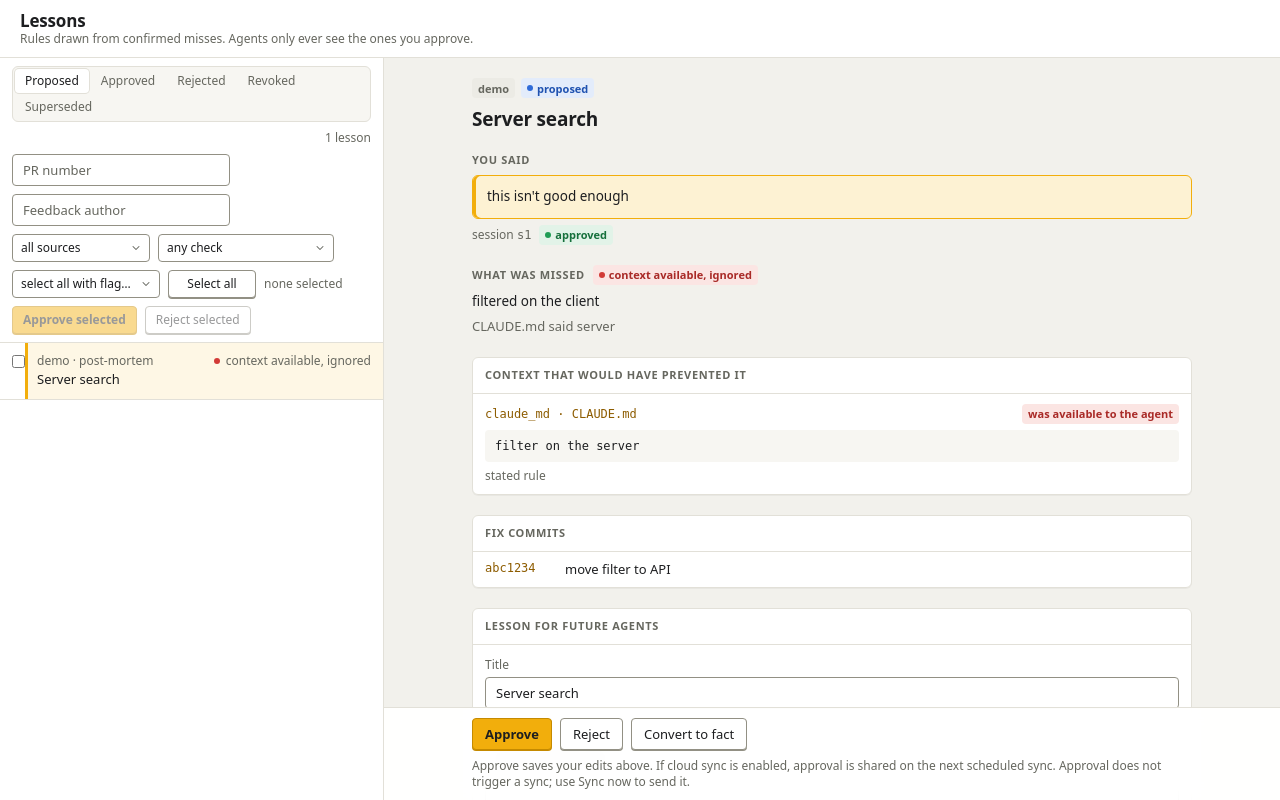
Scenario: Cancel in the convert dialog changes nothing, and a refusal is shown in the dialog
Expected: the text "filtered on the client" is shown, [472,292,600,310]
What coordinates should you click on to do the following:
click the button "Convert to fact"
I would click on:
 (689, 734)
Its box is [631,718,747,750].
(page scrolled)
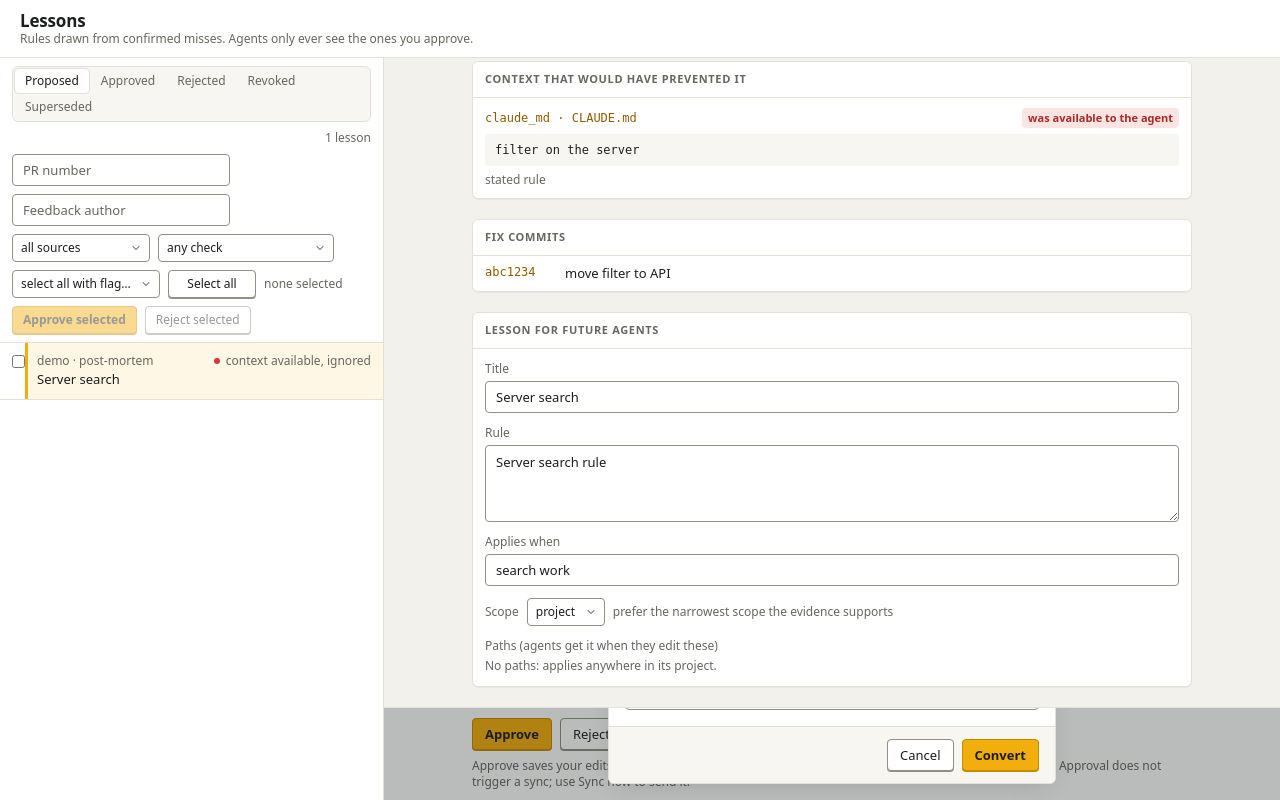
What coordinates should you click on to do the following:
click the button "Cancel"
I would click on:
 (920, 755)
Its box is [887,739,954,771].
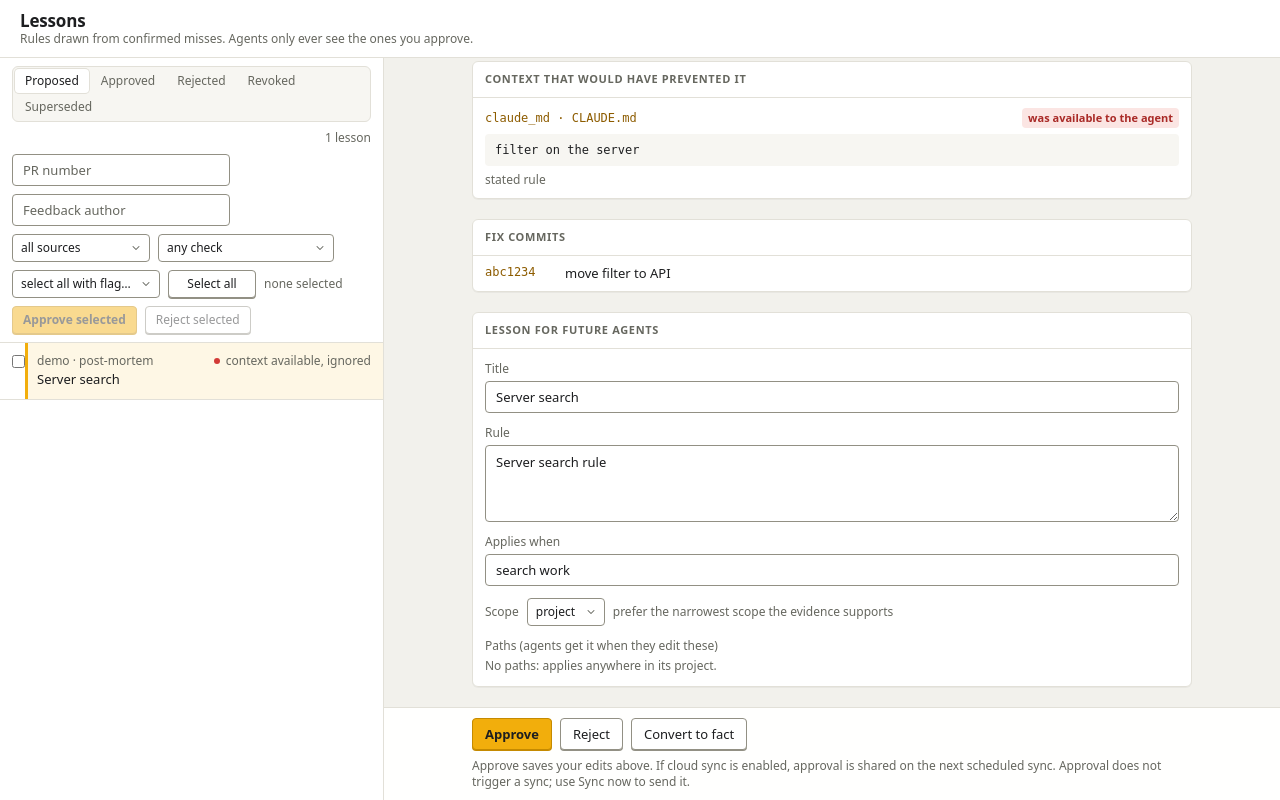
Now the dialog is gone
What coordinates should you click on to do the following:
click the button "Convert to fact"
I would click on:
 (689, 734)
Its box is [631,718,747,750].
(page scrolled)
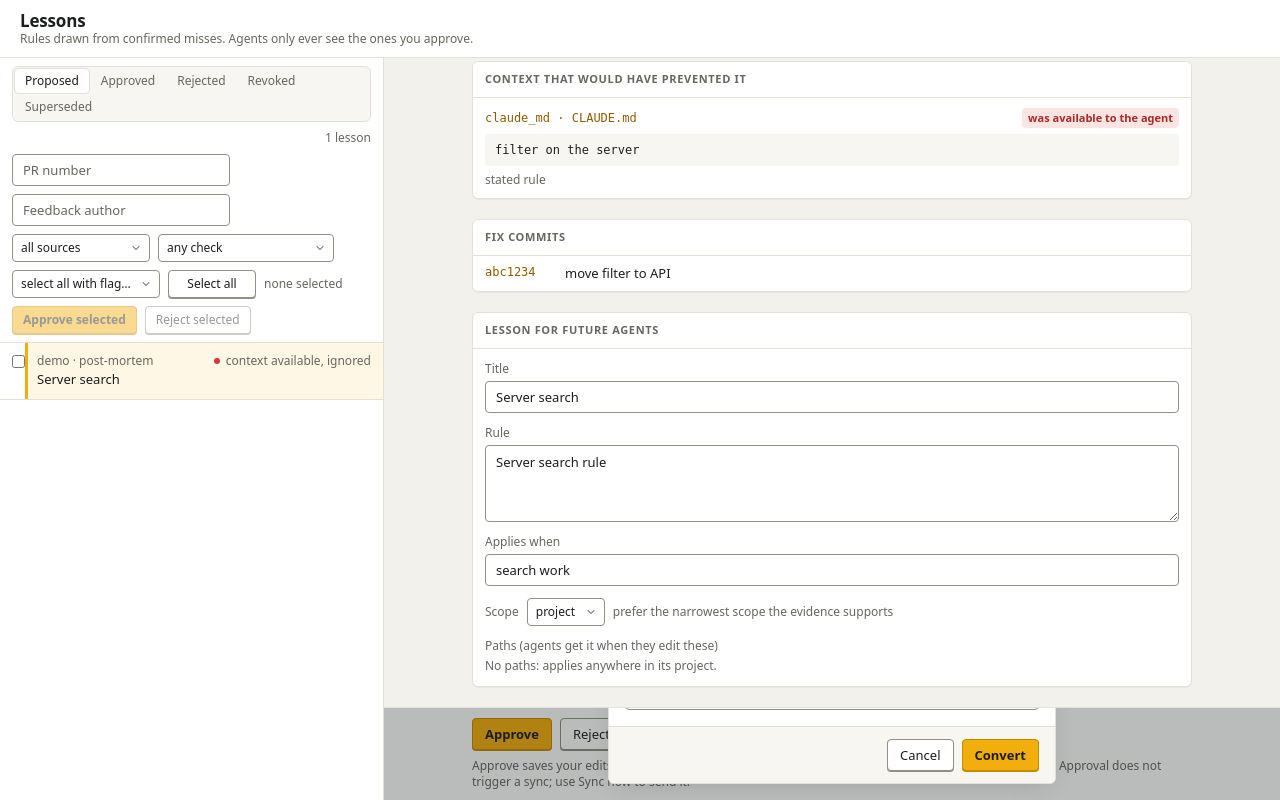
What coordinates should you click on to do the following:
click the button "Convert"
I would click on:
 (1000, 755)
Its box is [962,739,1039,771].
(page scrolled)
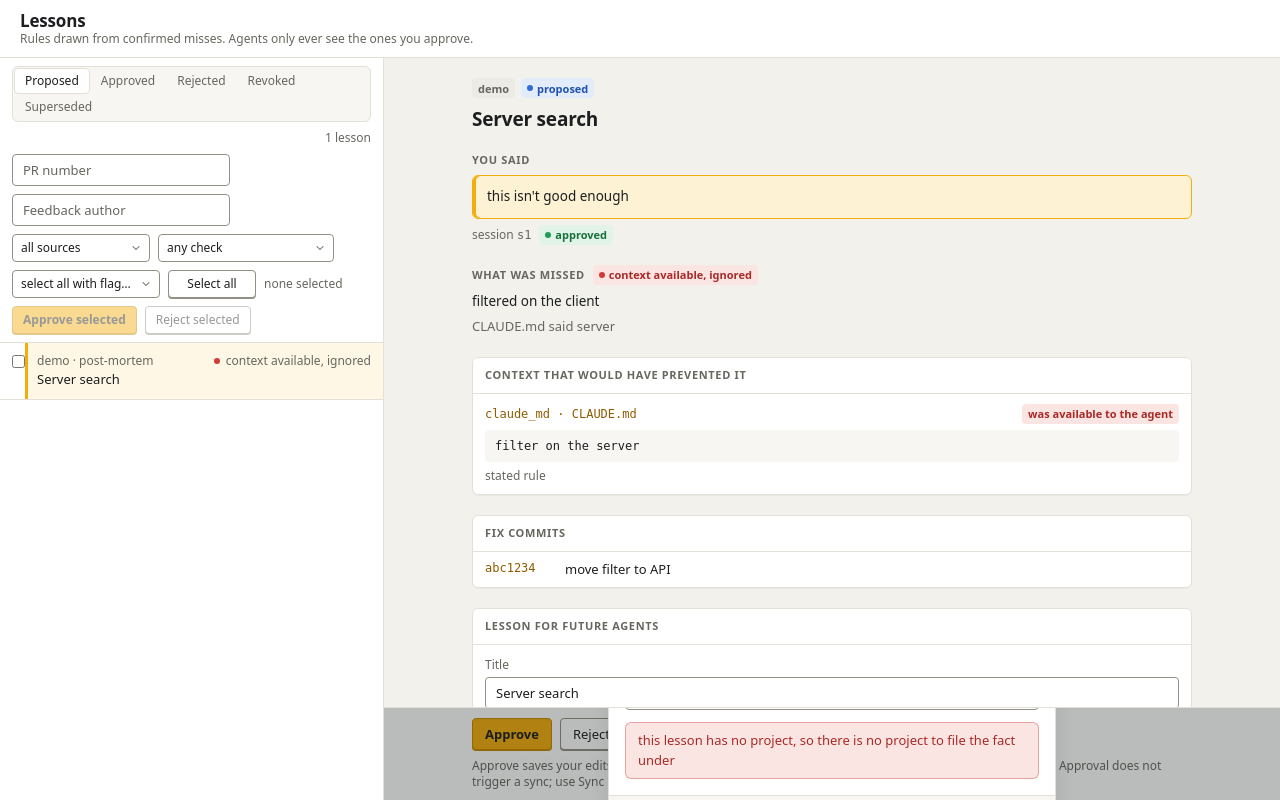
Now the text "this lesson has no project, so there is no project to file the fact under" is shown, box [625,722,1039,779]
Now the heading "Server search" is shown, box [472,106,598,132]
